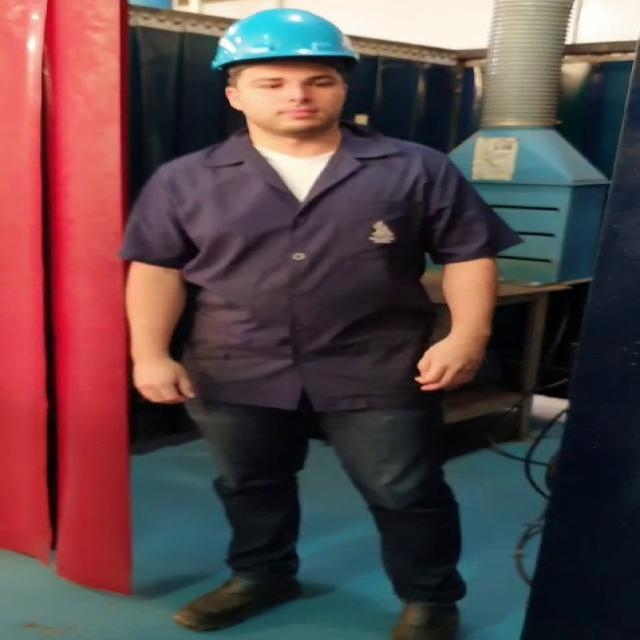sem_oculos: (225, 67, 358, 95)
